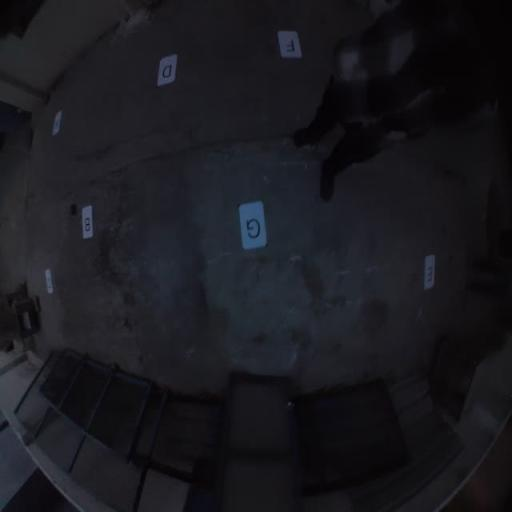A: (52, 111, 62, 135)
B: (82, 206, 92, 239)
C: (45, 269, 53, 294)
D: (156, 54, 178, 86)
E: (425, 255, 436, 288)
F: (278, 31, 302, 59)
G: (240, 202, 266, 250)
